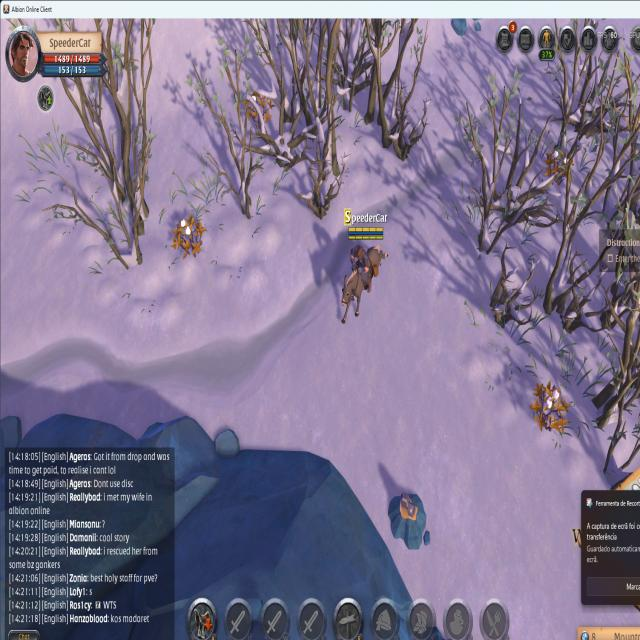cotton: (530, 373, 570, 439), (170, 207, 207, 263), (242, 87, 275, 135), (542, 140, 574, 186)
